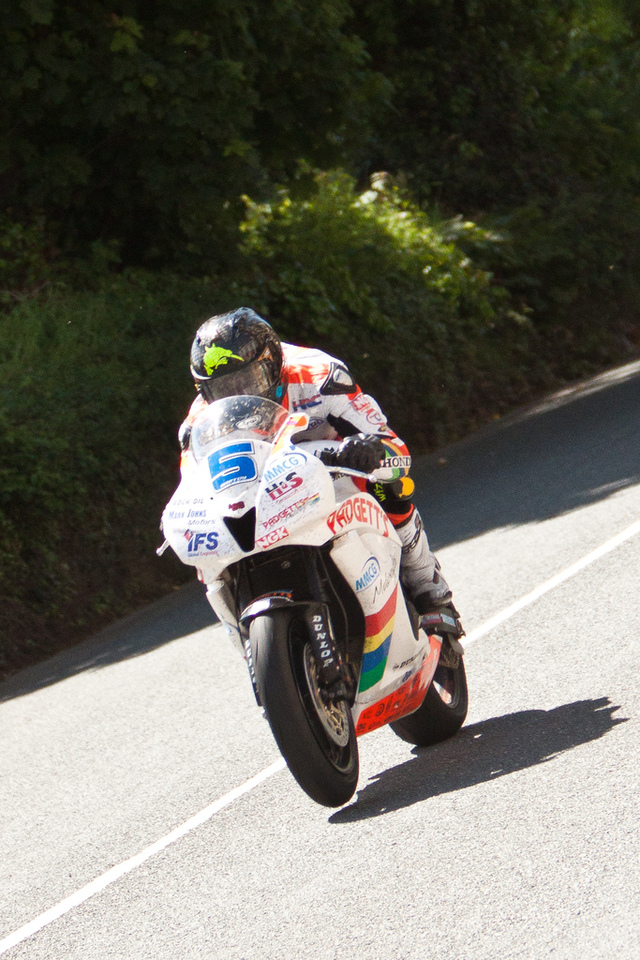helmet: (175, 311, 306, 409)
